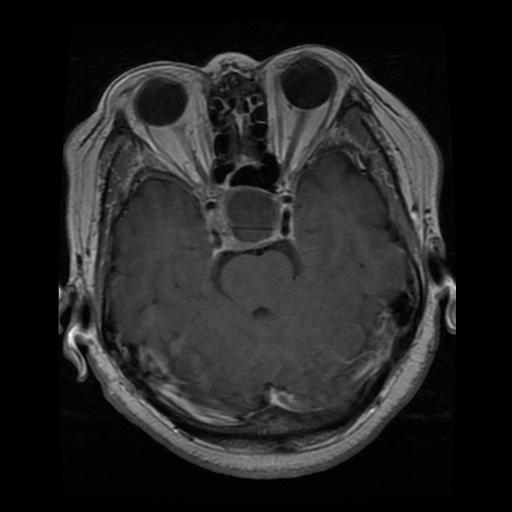pituitary: (216, 185, 285, 251)
